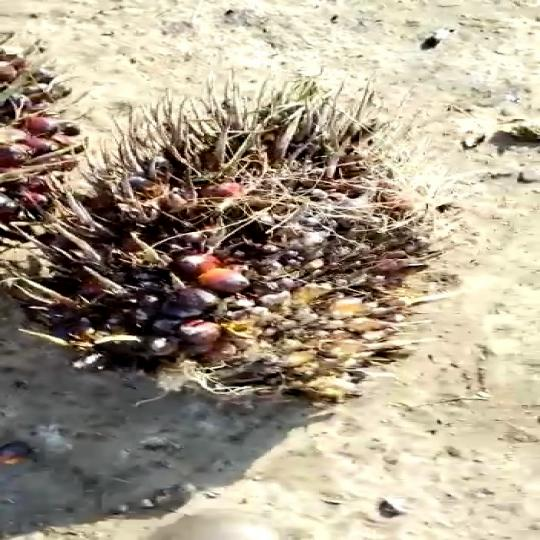terlalu masak: (25, 75, 462, 409)
